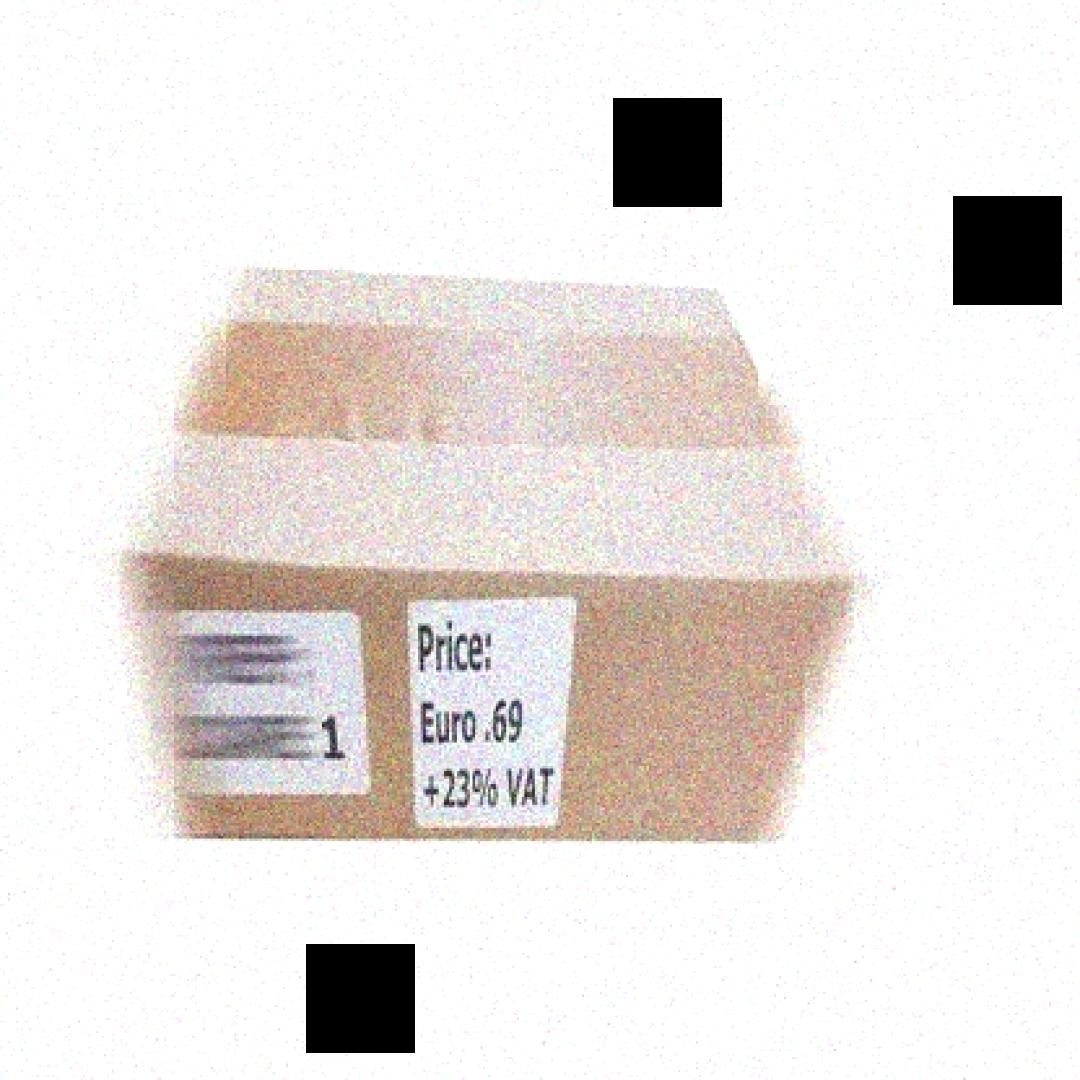package: (130, 265, 860, 838)
